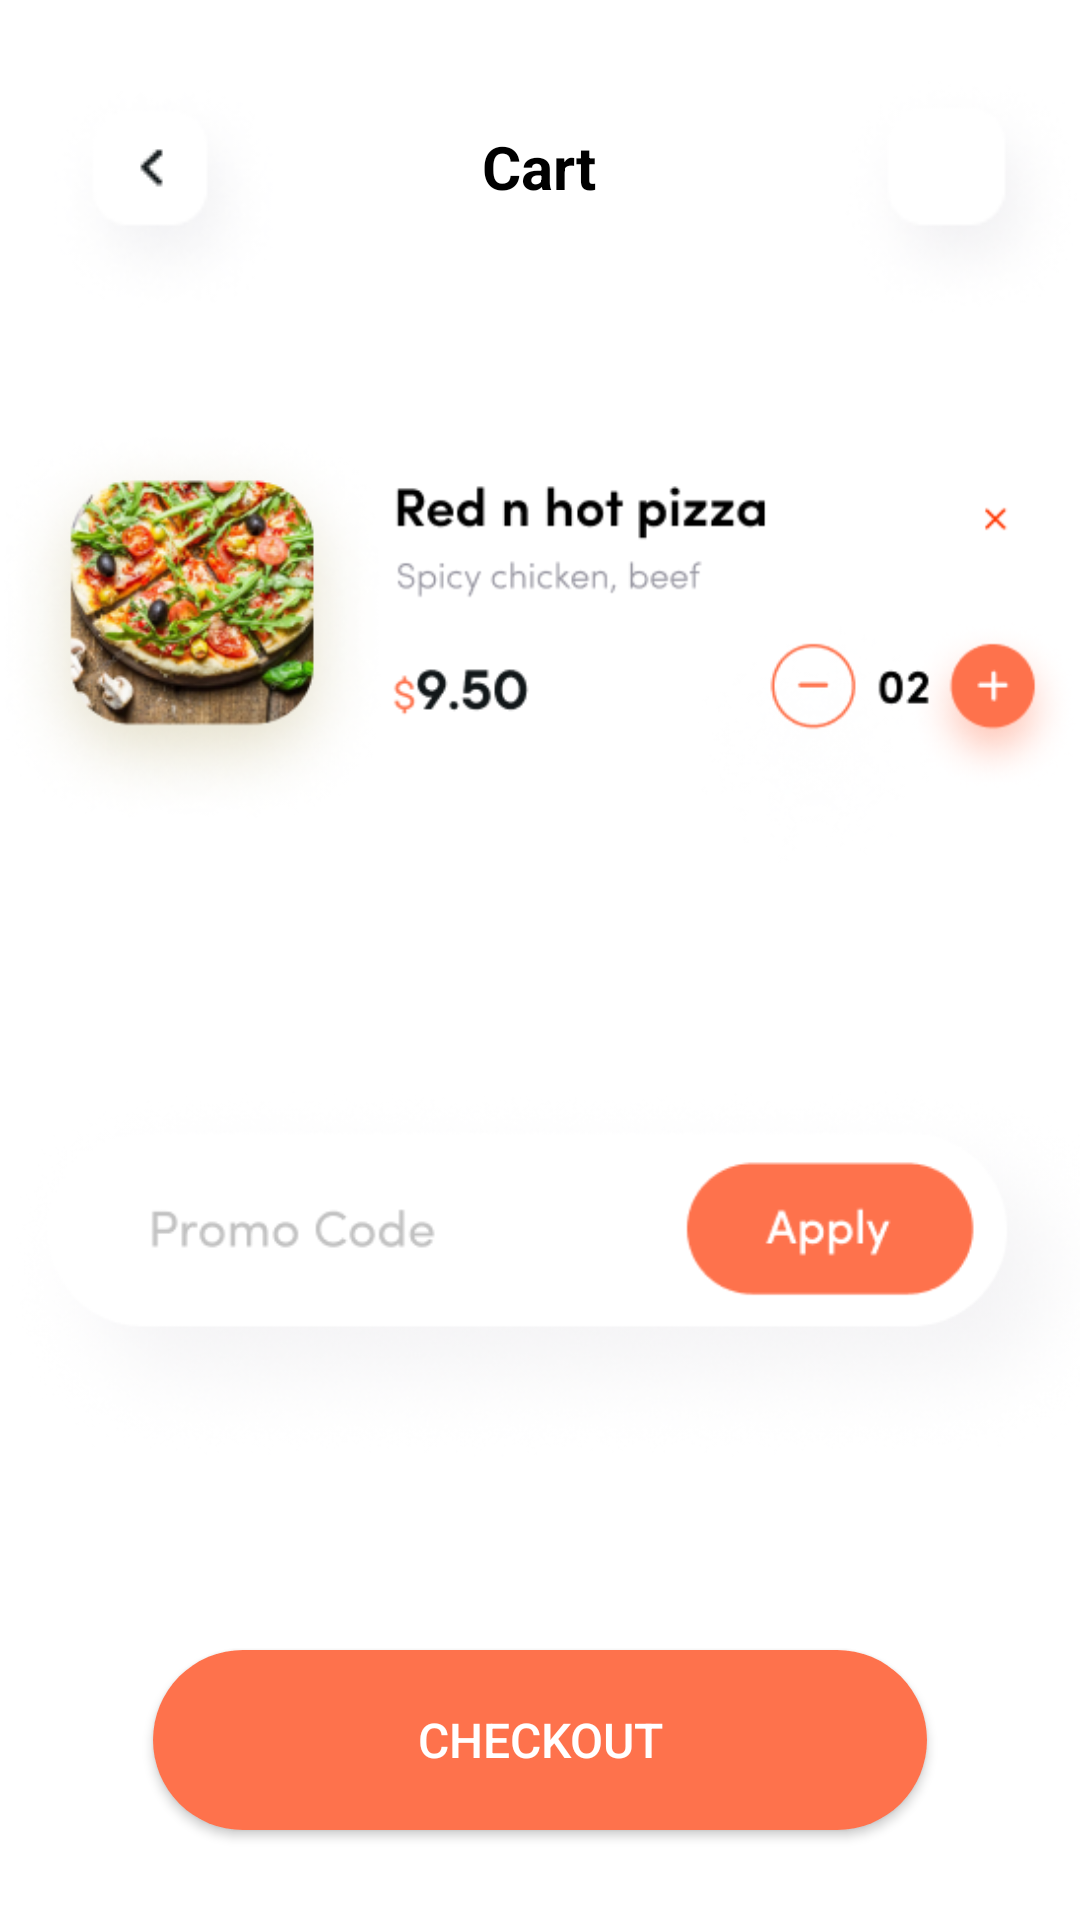

Icons on this 1080 × 1920 Android screen, each with its box as [left=x1, top=y1, right=x2, bottom=y2]:
backbtn: [left=140, top=149, right=163, bottom=187]
